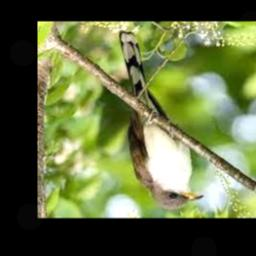Cuckoo: (118, 31, 202, 209)
